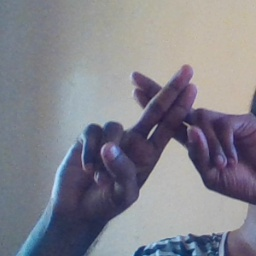F: (98, 58, 229, 182)
